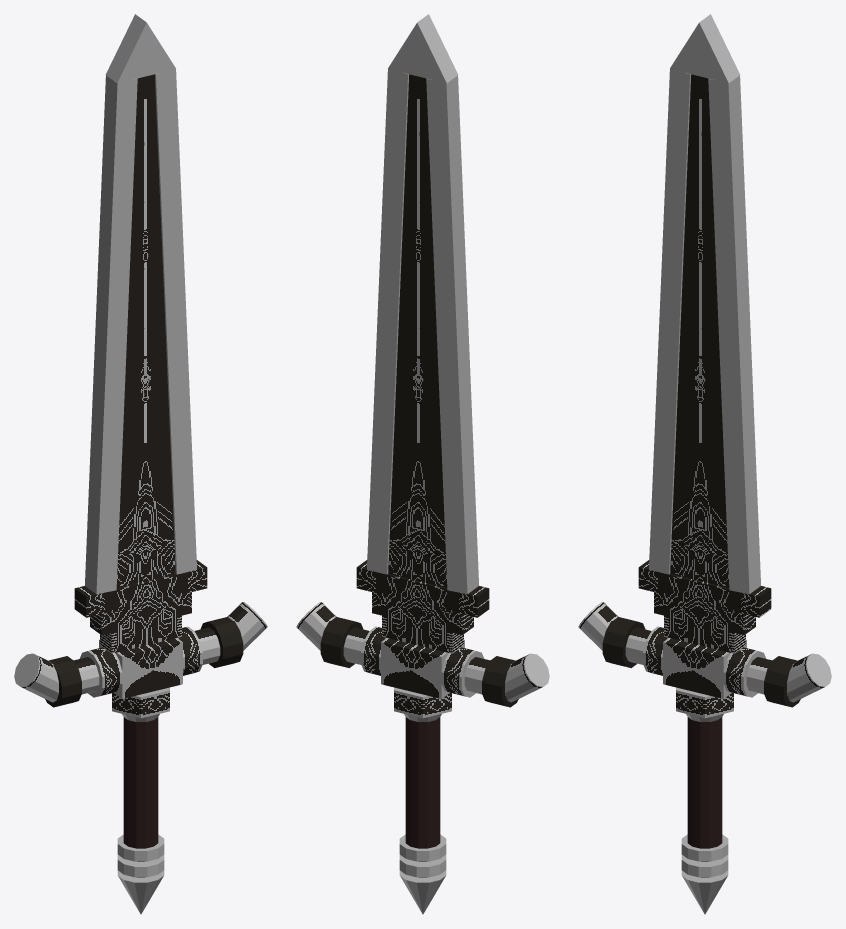
3 views of the same model, side by side, from view 1: azimuth 30°, elevation 25°; view 2: azimuth 150°, elevation 25°; view 3: azimuth 330°, elevation 25° (orthographic).
Parts seen in each view (by area): view 1: cube (×9), cylinder (×13), cone; view 2: cube (×9), cylinder (×13), cone; view 3: cube (×9), cylinder (×13), cone.
Part boxes in pixels (box(x1,y1,x2,y2)): cube (×9): box(80, 68, 207, 698); cylinder (×13): box(14, 14, 267, 877); cone: box(117, 870, 164, 914); cube (×9): box(356, 68, 483, 698); cylinder (×13): box(296, 14, 549, 877); cone: box(399, 870, 446, 914); cube (×9): box(638, 68, 765, 698); cylinder (×13): box(578, 14, 831, 877); cone: box(681, 870, 728, 914).
Bounding box in the file's own units: 0.762 × 2.66 × 0.1563.
Materials: 37 (37 with a texture image).
